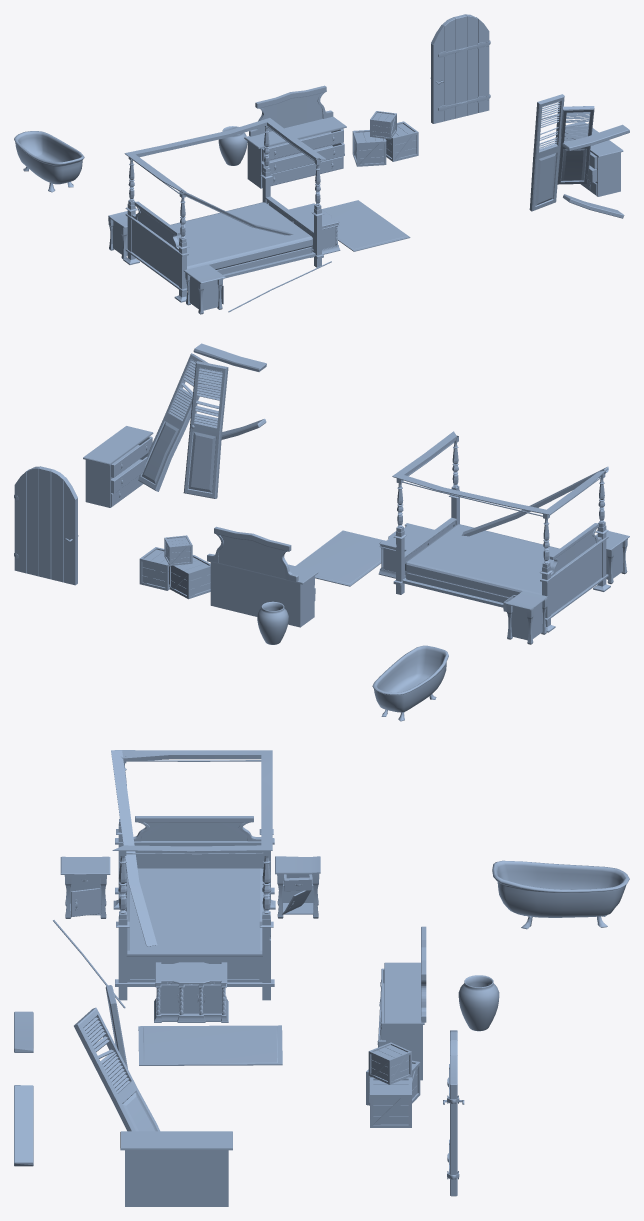
Rendered from SM_Ignacios_room.fbx.
The picture shows the model from 3 angles, top to bottom: view 1: azimuth 30°, elevation 25°; view 2: azimuth 150°, elevation 25°; view 3: azimuth 270°, elevation 25°; orthographic projection. The views are drawn at different scales.
Visible parts, largest first — view 1: Agnocio_phone:polySurface1, polySurface1 (×3), Dining_table_v01:Dining_table_v01:polySurface144, pCube509, Tub, polySurface719, Carpet_v01:polySurface1, dresser:polySurface1, polySurface717, Crate_high:polySurface1, pCylinder53, Fireplace:Fireplace:Fireplace:Fireplace:polySurface13 (+4 smaller); view 2: Agnocio_phone:polySurface1, polySurface1 (×3), pCube509, Dining_table_v01:Dining_table_v01:polySurface144, dresser:polySurface1, Tub, Carpet_v01:polySurface1, polySurface719, polySurface715, Crate_high:polySurface1, pCylinder53, Fireplace:Fireplace:Fireplace:Fireplace:polySurface13 (+3 smaller); view 3: Agnocio_phone:polySurface1, dresser:polySurface1, Tub, Carpet_v01:polySurface1, polySurface719, polySurface1 (×2), pCube509, pCylinder53, polySurface717, polySurface715, Fireplace:Fireplace:Fireplace:Fireplace:polySurface13, pCube510 (+3 smaller).
Boxes of the visible parts, box(x1,y1,x2,y2) form: Agnocio_phone:polySurface1: box(123, 125, 331, 312); polySurface1 (×3): box(244, 85, 418, 188); Dining_table_v01:Dining_table_v01:polySurface144: box(430, 14, 490, 123); pCube509: box(529, 94, 594, 211); Tub: box(14, 131, 84, 192); polySurface719: box(124, 118, 326, 235); Carpet_v01:polySurface1: box(322, 200, 410, 251); dresser:polySurface1: box(565, 122, 623, 196); polySurface717: box(183, 264, 225, 314); Crate_high:polySurface1: box(352, 130, 386, 166); pCylinder53: box(289, 203, 340, 257); Fireplace:Fireplace:Fireplace:Fireplace:polySurface13: box(218, 126, 247, 165); Agnocio_phone:polySurface1: box(393, 435, 610, 632); polySurface1 (×3): box(139, 526, 318, 627); pCube509: box(138, 353, 228, 498); Dining_table_v01:Dining_table_v01:polySurface144: box(14, 466, 78, 585); dresser:polySurface1: box(83, 426, 153, 507); Tub: box(372, 645, 448, 721); Carpet_v01:polySurface1: box(295, 530, 385, 586); polySurface719: box(392, 431, 608, 536); polySurface715: box(503, 591, 547, 644); Crate_high:polySurface1: box(169, 555, 210, 599); pCylinder53: box(378, 523, 434, 578); Fireplace:Fireplace:Fireplace:Fireplace:polySurface13: box(257, 601, 288, 644); Agnocio_phone:polySurface1: box(53, 756, 275, 1008); dresser:polySurface1: box(120, 1131, 232, 1206); Tub: box(492, 860, 629, 929); Carpet_v01:polySurface1: box(138, 1025, 282, 1065); polySurface719: box(111, 750, 272, 946); polySurface1 (×2): box(370, 962, 424, 1127); pCube509: box(74, 985, 159, 1131); pCylinder53: box(154, 962, 228, 1022); polySurface717: box(60, 856, 110, 918); polySurface715: box(275, 856, 320, 918); Fireplace:Fireplace:Fireplace:Fireplace:polySurface13: box(458, 975, 499, 1031); pCube510: box(14, 1085, 33, 1166).
Size of the model in its own units: 1197 by 298 by 1021.
